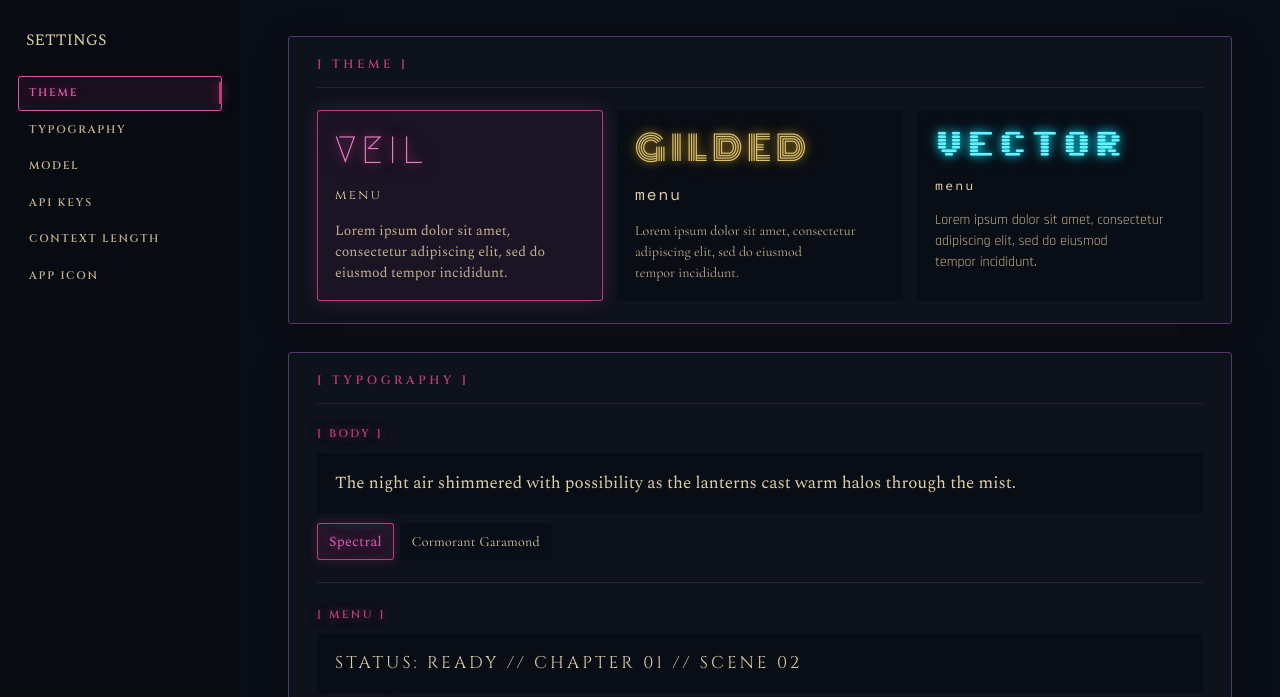
preference save failures (#961) › shows the rejection for a network failure and keeps the saved theme
Click the button with test id "theme-gilded". click: [723, 148]
box: top-left (617, 110), bottom-right (903, 301)
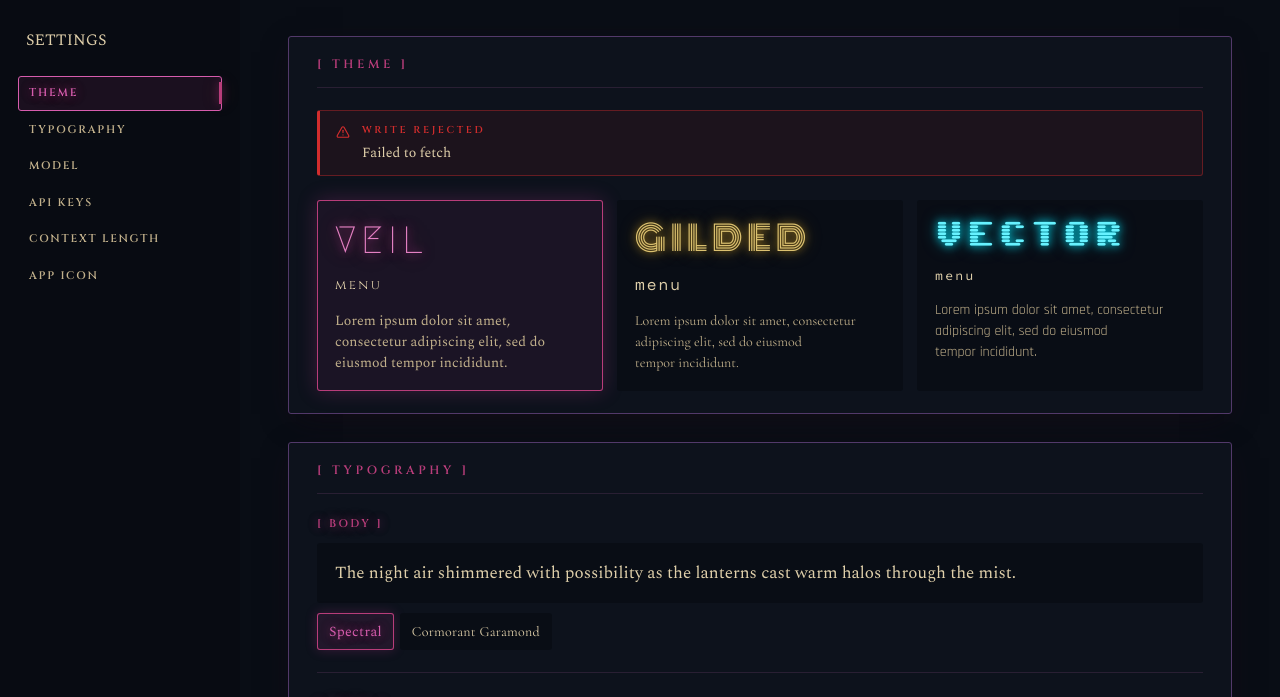
Expected: the message with test id "theme-save-error" shows "Failed to fetch", top-left (362, 142), bottom-right (451, 163)
Click the button with test id "theme-gilded". click: [723, 238]
box: top-left (617, 200), bottom-right (903, 391)
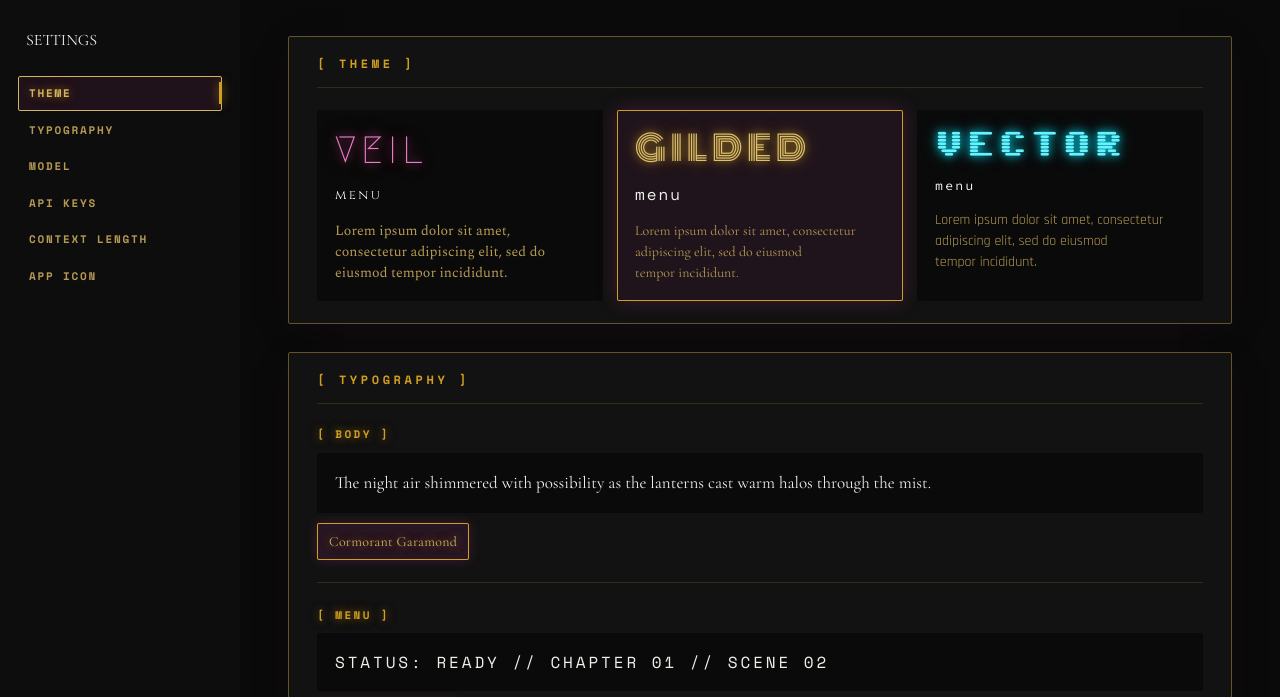
Expected: the message with test id "theme-save-error" is gone
